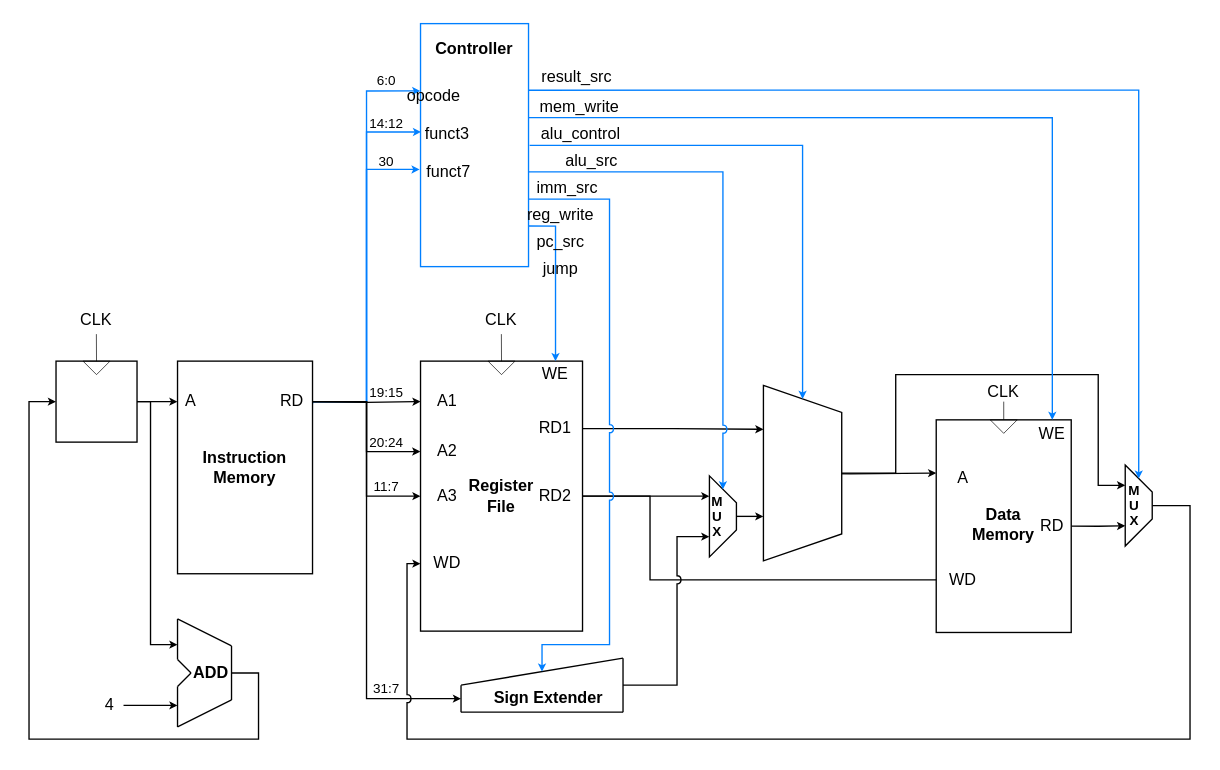
This 1220x770 diagram has some shape labels left out. Here are the shapes that lost their labels. From the top down, the centre of each, then its label:
At point 96,401: "Program Counter".
At point 802,472: "ALU".
